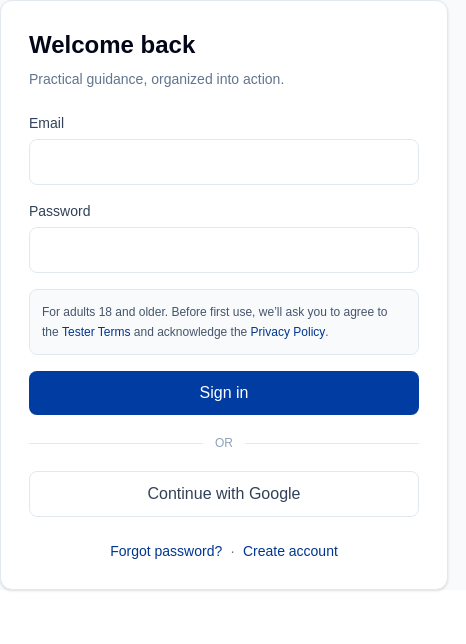
Test case: authentication form › shows an understandable error when Google OAuth cannot start
Step 1. Click the button "Continue with Google" → click(224, 494), box [29, 471, 419, 517]
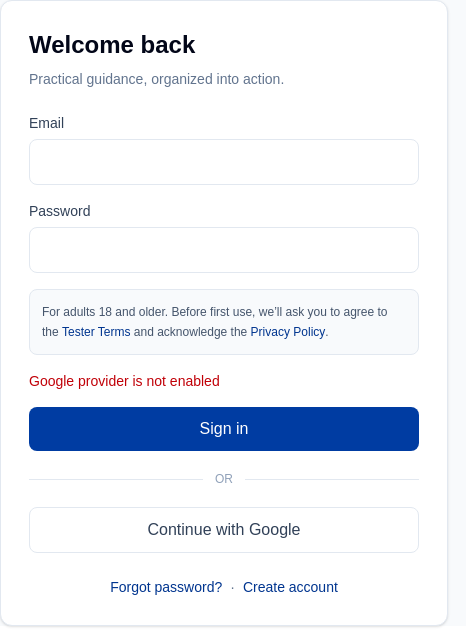
Expected: the button "Continue with Google" is enabled, [29, 507, 419, 553]
Result: the message reads "Google provider is not enabled" at [29, 373, 220, 389]
